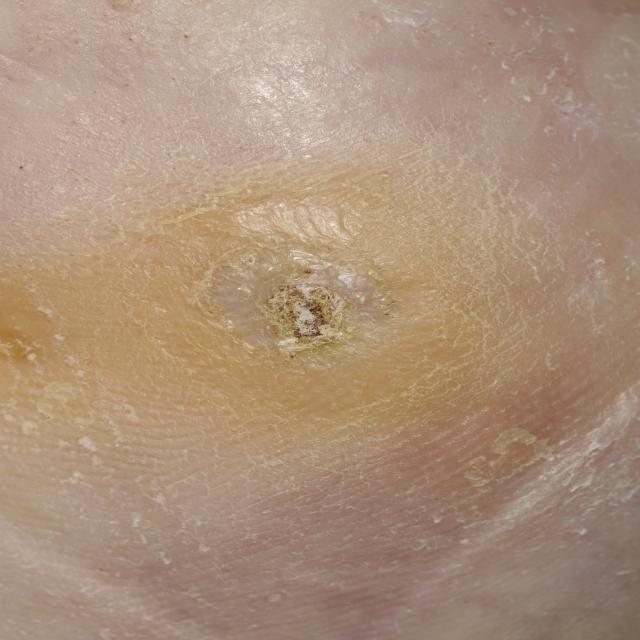wound: (263, 276, 348, 349)
